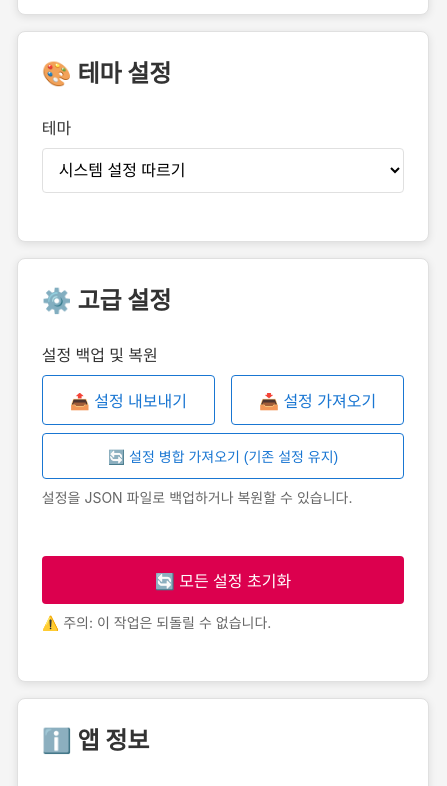
Test: Task 4.3 SettingsView UI Functionality › Import/Export Functionality › should handle successful export
This screenshot has width=447, height=786.
(page scrolled)
Click the button "📤 설정 내보내기": click(128, 400) [42,375,215,425]
(page scrolled)
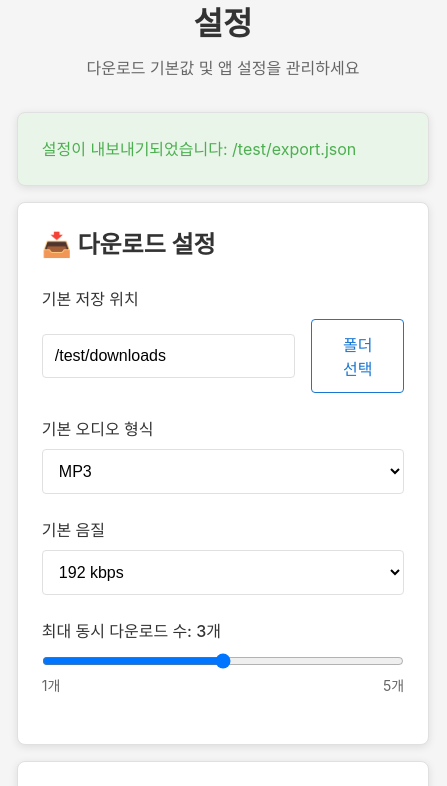
expect the text "설정이 내보내기되었습니다: /test/export.json" is shown: met, box [17,112,429,186]
